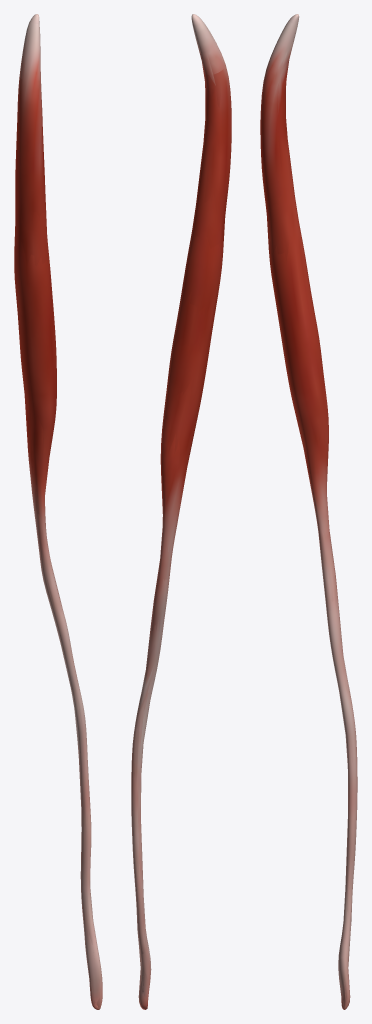
Rendered from R Lateral Digital Extensor.fbx.
3 renders of one model, left to right at view 1: azimuth 30°, elevation 25°; view 2: azimuth 150°, elevation 25°; view 3: azimuth 330°, elevation 25°, orthographic. The views are drawn at different scales.
Parts seen in each view (by area): view 1: R Lateral Digital Extensor, R Lateral Digital Extensor low; view 2: R Lateral Digital Extensor, R Lateral Digital Extensor low; view 3: R Lateral Digital Extensor, R Lateral Digital Extensor low.
Boxes of the visible parts, left/top/right/bottom form: R Lateral Digital Extensor: left=14, top=14, right=102, bottom=1009; R Lateral Digital Extensor low: left=14, top=20, right=102, bottom=1008; R Lateral Digital Extensor: left=131, top=14, right=231, bottom=1009; R Lateral Digital Extensor low: left=132, top=20, right=229, bottom=1005; R Lateral Digital Extensor: left=260, top=14, right=357, bottom=1009; R Lateral Digital Extensor low: left=263, top=20, right=355, bottom=1008.
Bounding box in the file's own units: 6.85 × 76.3 × 4.51.
